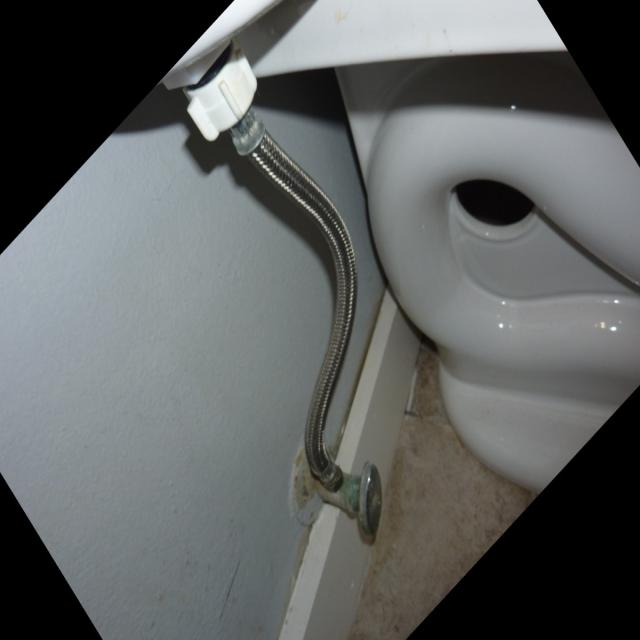good_coupler: (182, 34, 259, 140)
good_line: (236, 118, 360, 482)
rusty_valve: (319, 465, 389, 545)
